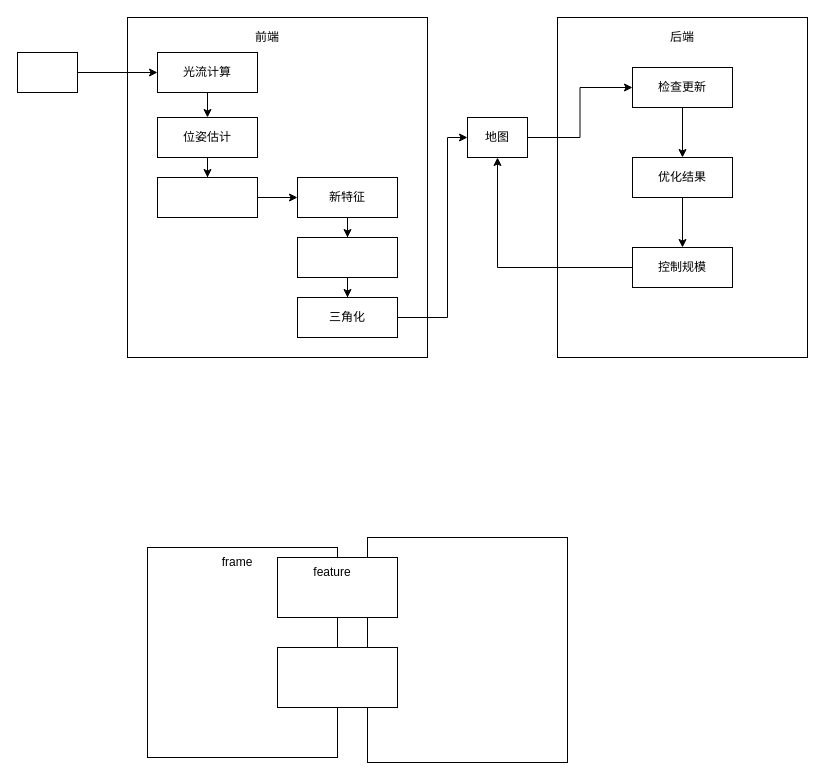
Image size: 825x780. Some labels were removed from this diagram. The box of each missing label's shape, as (x1, y1, x2, y2) in pixels:
map: (366, 536, 568, 762)
关键帧: (156, 176, 258, 218)
图像: (16, 52, 78, 92)
左右匹配: (296, 236, 398, 278)
